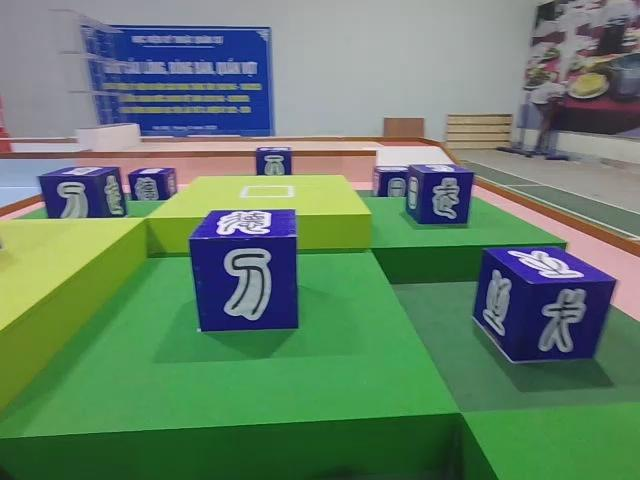R2 Fake Blue: (475, 242, 621, 367), (188, 207, 303, 333), (35, 165, 128, 219), (405, 161, 473, 230), (129, 166, 177, 200), (369, 163, 406, 196), (255, 146, 292, 178)
